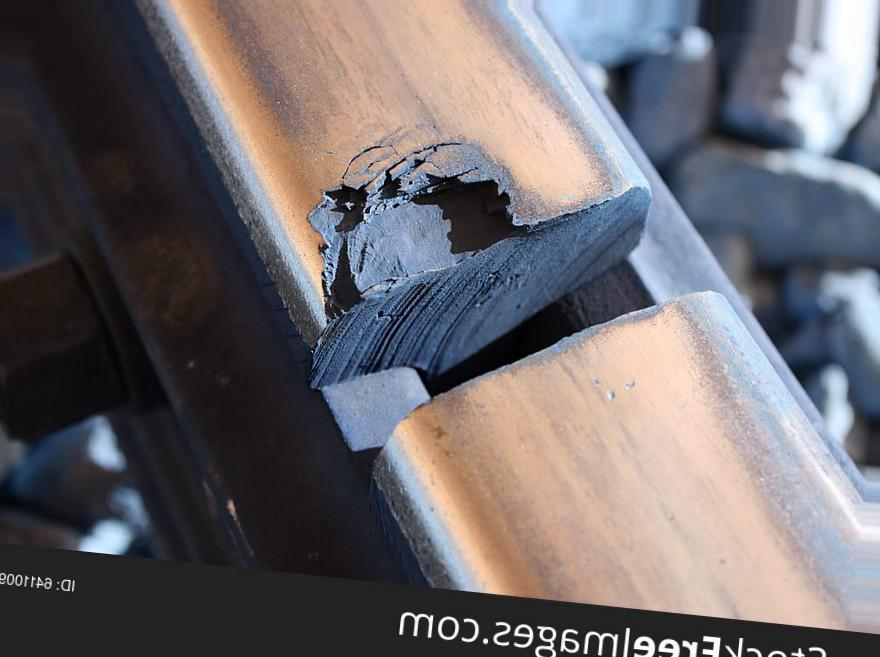tracks_fault: (248, 118, 713, 433)
